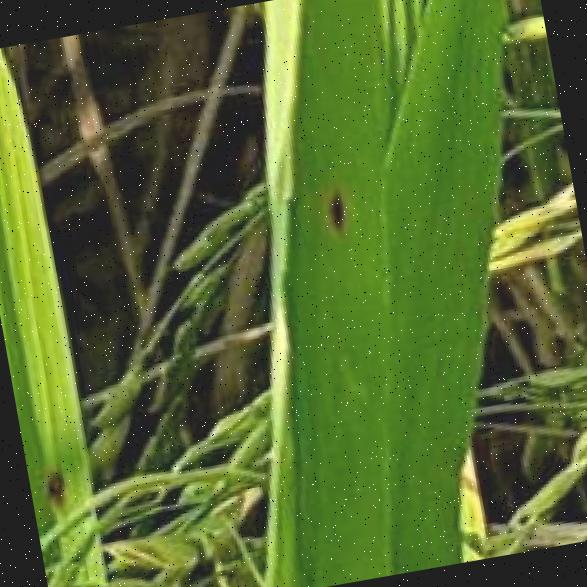Brown_Spot: (306, 165, 356, 244)
